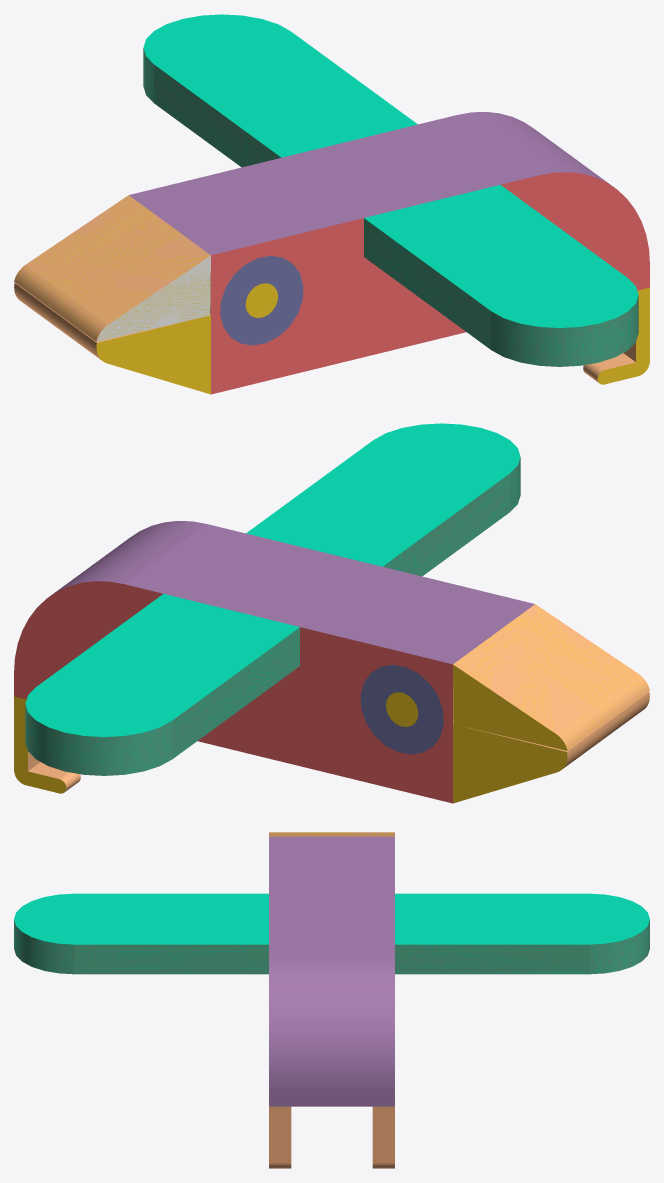
File: bird.dae
3 renders of one model, top to bottom at view 1: azimuth 30°, elevation 25°; view 2: azimuth 150°, elevation 25°; view 3: azimuth 270°, elevation 25°, orthographic. The views are drawn at different scales.
Parts seen in each view (by area): view 1: instance_3 (×6), instance_2 (×2), instance_1 (×2), instance_5 (×2), instance_4 (×2); view 2: instance_3 (×6), instance_1 (×2), instance_2 (×2), instance_5 (×2), instance_4 (×2); view 3: instance_3 (×3), instance_1 (×2), instance_2 (×2), instance_5.
Part boxes in pixels (box(x1,y1,x2,y2)): instance_3 (×6): box(129, 112, 649, 394); instance_2 (×2): box(364, 184, 638, 366); instance_1 (×2): box(143, 14, 417, 167); instance_5 (×2): box(14, 195, 210, 341); instance_4 (×2): box(14, 282, 210, 394); instance_3 (×6): box(14, 521, 534, 803); instance_1 (×2): box(25, 593, 299, 775); instance_2 (×2): box(246, 423, 520, 576); instance_5 (×2): box(453, 604, 649, 750); instance_4 (×2): box(453, 691, 649, 803); instance_3 (×3): box(269, 836, 394, 1168); instance_1 (×2): box(395, 893, 649, 974); instance_2 (×2): box(14, 893, 268, 974); instance_5: box(269, 832, 394, 836).
Bounding box in the file's own units: 195 × 253 × 75.63.
